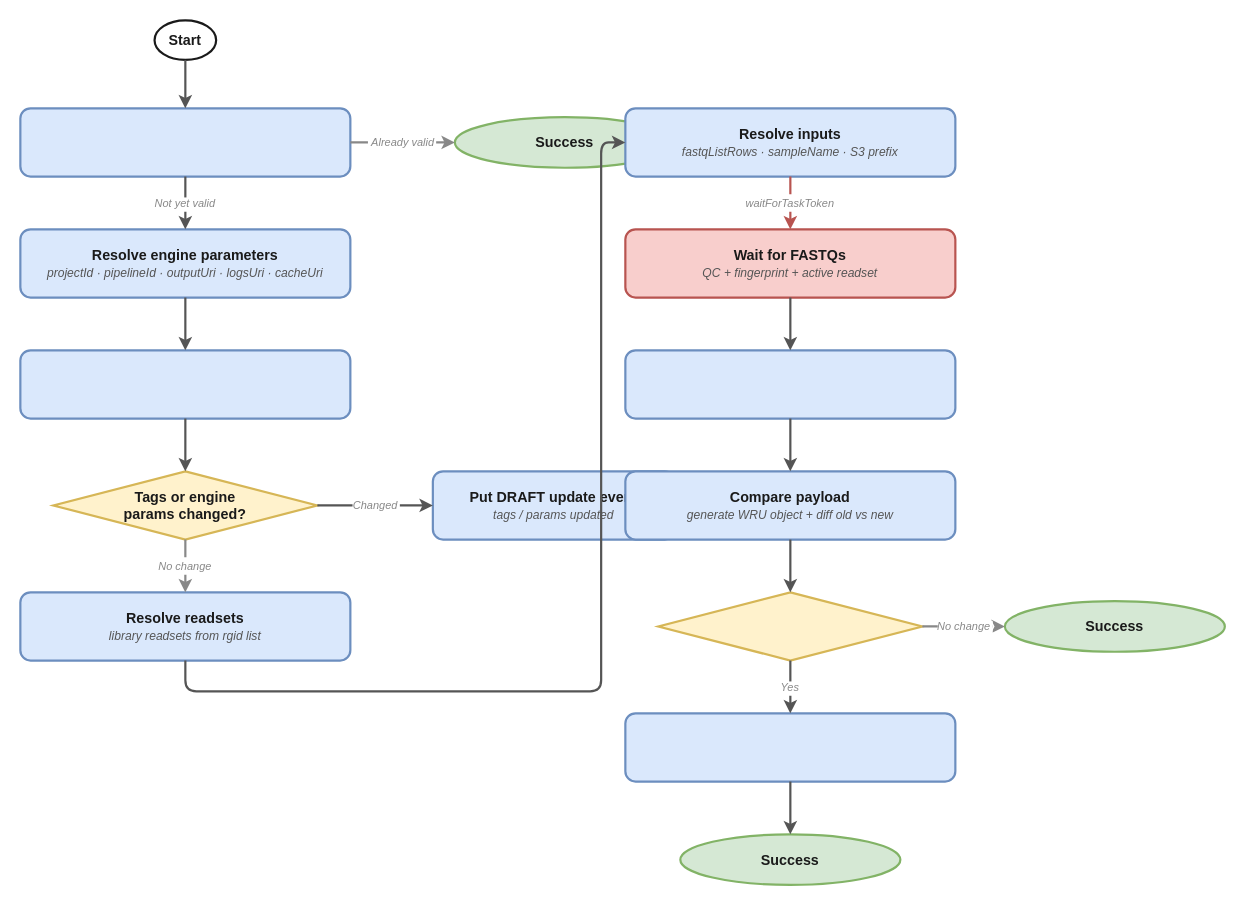
This 1244x904 diagram has some shape labels left out. Each missing label, with the centre of its shape:
"Add QC tags coverage · dup-frac · insert size estimates" belongs at pixel 790 384.
"Payload changed?" belongs at pixel 790 626.
"Put DRAFT update event fully populated payload" belongs at pixel 790 747.
"Resolve library tags fastqRgidList · subjectId · individualId" belongs at pixel 185 384.
"Validate draft data" belongs at pixel 185 142.
